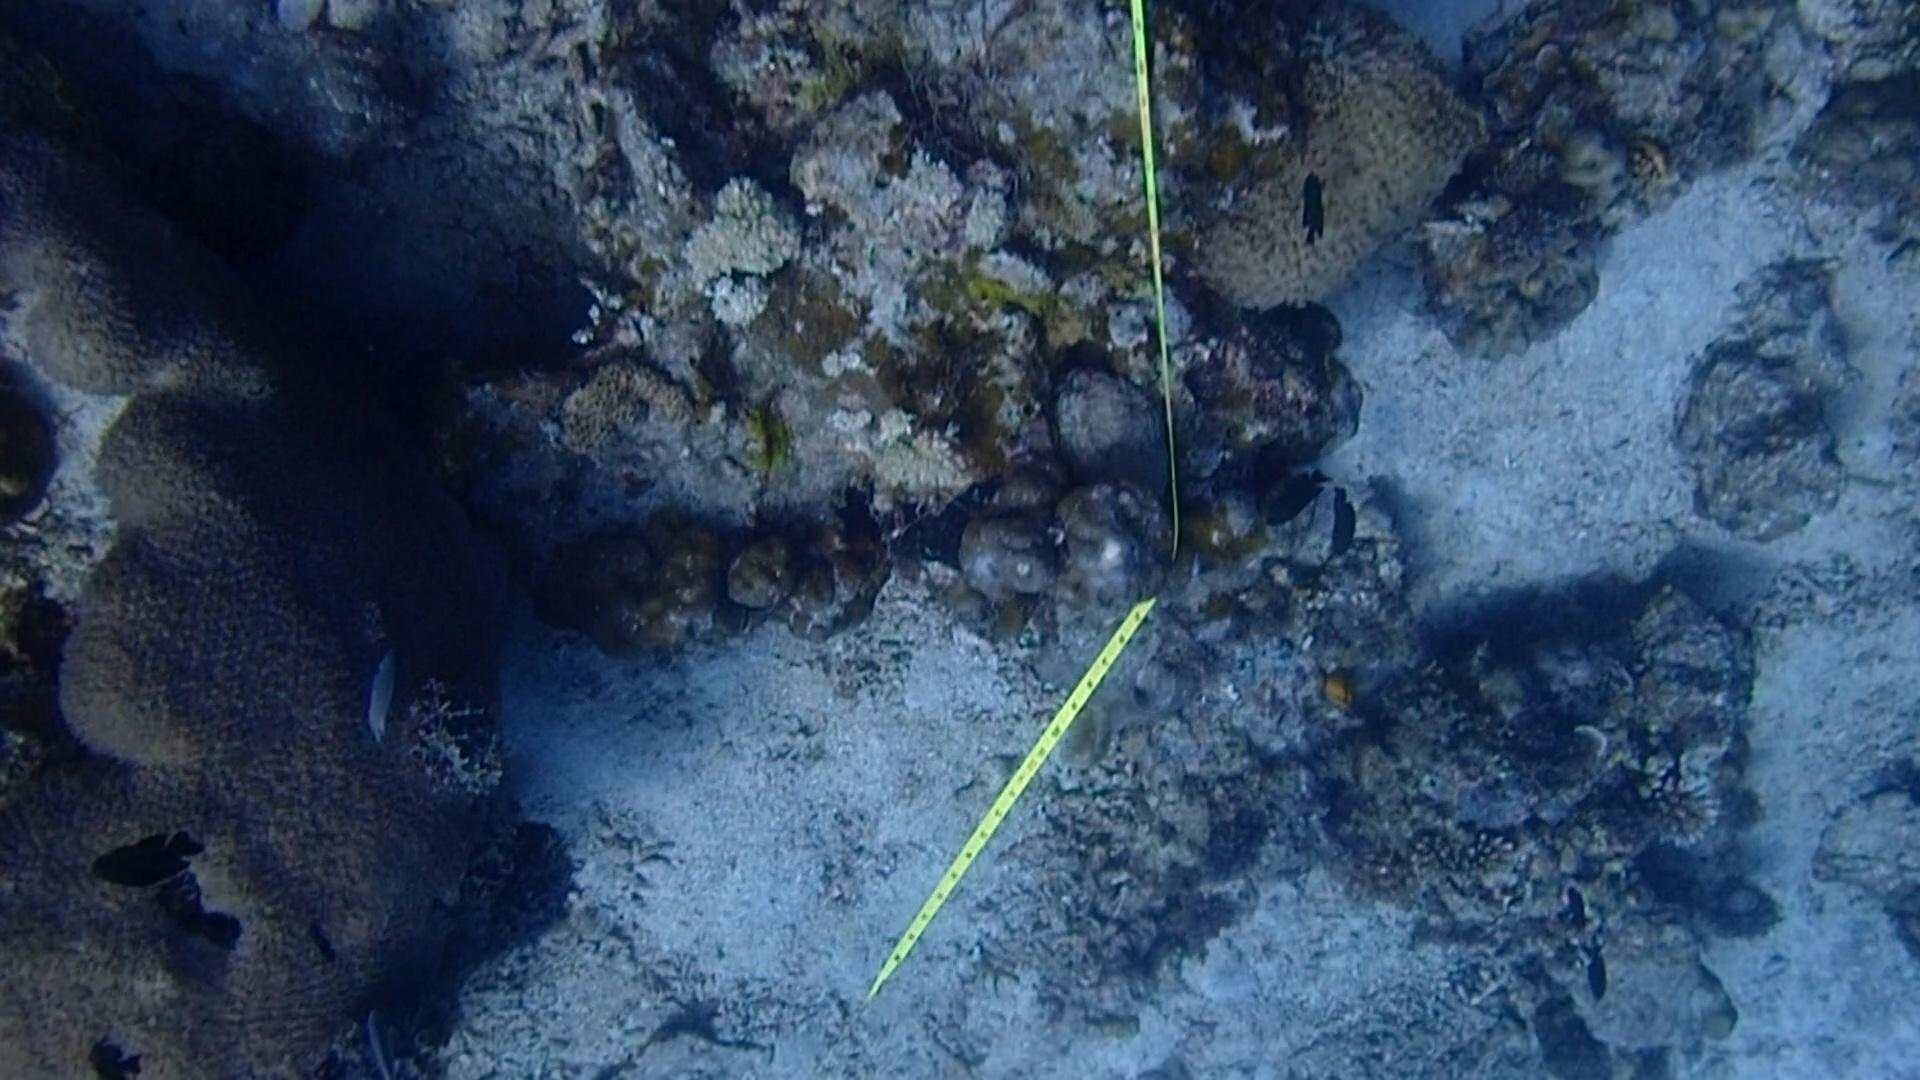Dark Fish: (80, 806, 212, 905), (1415, 136, 1506, 222), (1249, 458, 1336, 538), (1283, 158, 1345, 257), (1567, 948, 1625, 1025), (1312, 500, 1371, 574), (301, 909, 344, 975), (1559, 885, 1594, 943)
Light Fish: (348, 651, 411, 749)
